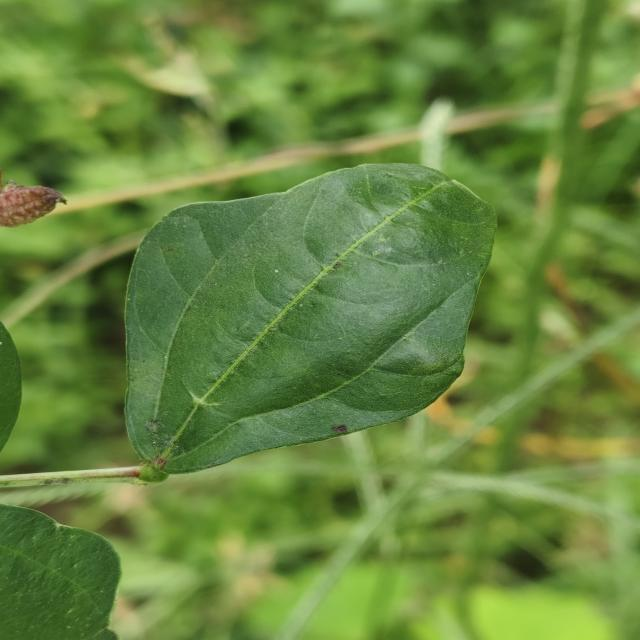leaf-low: (126, 164, 496, 481), (0, 484, 140, 640)
